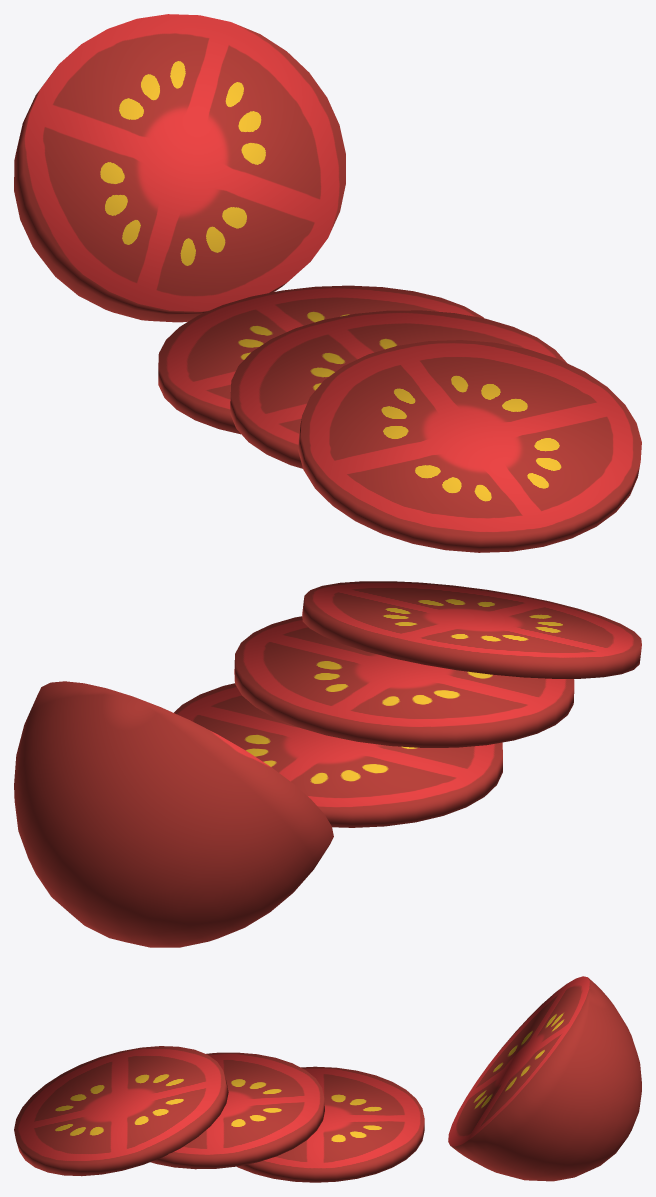
The model's file is pomidor-pokrojony.gltf.
3 renders of one model, top to bottom at view 1: azimuth 30°, elevation 25°; view 2: azimuth 150°, elevation 25°; view 3: azimuth 270°, elevation 25°, orthographic. The views are drawn at different scales.
Visible parts, largest first — view 1: cialo.003, Circle.002, Circle.001, Circle; view 2: cialo.003, Circle.001, Circle.002, Circle; view 3: cialo.003, Circle.002, Circle, Circle.001.
Boxes of the visible parts, box(x1,y1,x2,y2) form: cialo.003: box(14, 14, 345, 322); Circle.002: box(298, 340, 641, 552); Circle.001: box(230, 310, 566, 468); Circle: box(158, 285, 483, 434); cialo.003: box(14, 681, 333, 947); Circle.001: box(234, 616, 574, 747); Circle.002: box(302, 581, 641, 678); Circle: box(174, 683, 502, 827); cialo.003: box(448, 976, 641, 1181); Circle.002: box(14, 1046, 228, 1176); Circle: box(237, 1066, 424, 1182); Circle.001: box(150, 1052, 324, 1169).
Size of the model in its own units: 1.94 by 1.59 by 4.97.
1 material, 1 textured.
